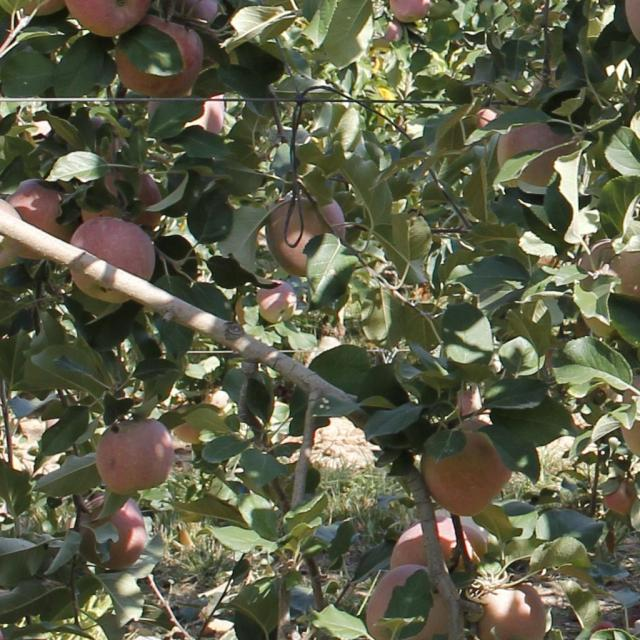100-_ripeness: (421, 421, 513, 516), (116, 14, 205, 98), (71, 215, 155, 303), (266, 197, 346, 276), (577, 238, 640, 338), (366, 564, 448, 640), (5, 178, 81, 258), (97, 418, 175, 495), (79, 493, 147, 568), (389, 517, 487, 569), (497, 124, 577, 186), (80, 171, 162, 228), (477, 583, 546, 640), (66, 1, 151, 37), (256, 280, 297, 322), (185, 94, 226, 134), (622, 375, 640, 456), (1, 198, 20, 266), (602, 479, 637, 514), (388, 1, 431, 22), (180, 1, 218, 20), (20, 1, 66, 16), (173, 422, 201, 444), (627, 0, 640, 42), (382, 21, 402, 42), (1, 630, 4, 640)
